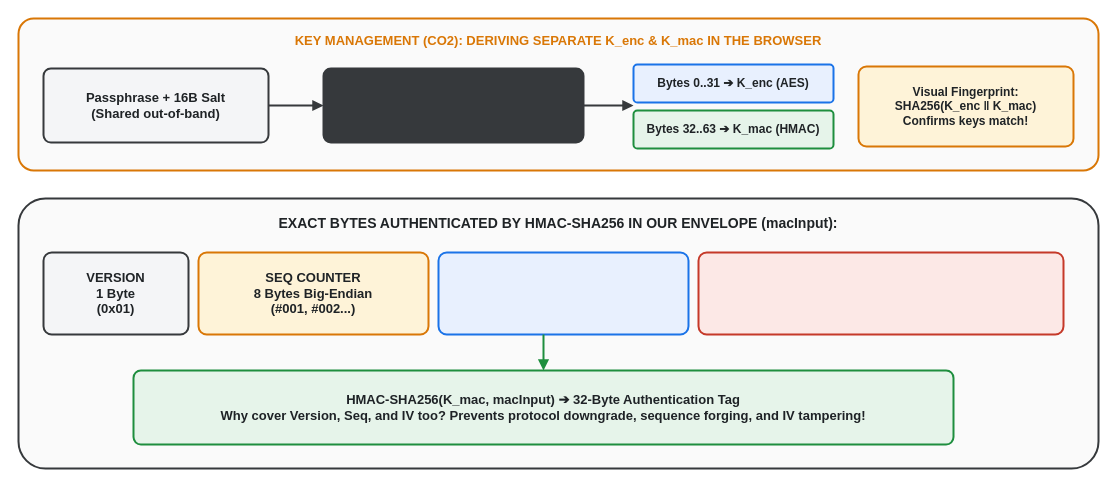
The diagram is 1116 pixels wide and 486 high, and some of its shapes have lost their labels. Here are the shapes that lost their labels. From the top down, the centre of each, then its label:
At point 453,105: "PBKDF2-HMAC-SHA256 210,000 Iterations ➔ 512 Bits".
At point 563,293: "RANDOM IV 16 Bytes (from AES-CBC)".
At point 880,293: "AES-256-CBC CIPHERTEXT N × 16 Bytes (PKCS#7 Padded)".
